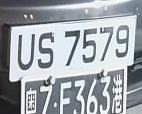5: (81, 24, 99, 68)
7: (62, 25, 82, 71), (98, 22, 116, 66)
9: (114, 20, 132, 64)
S: (35, 28, 57, 74)
U: (15, 28, 37, 76)
